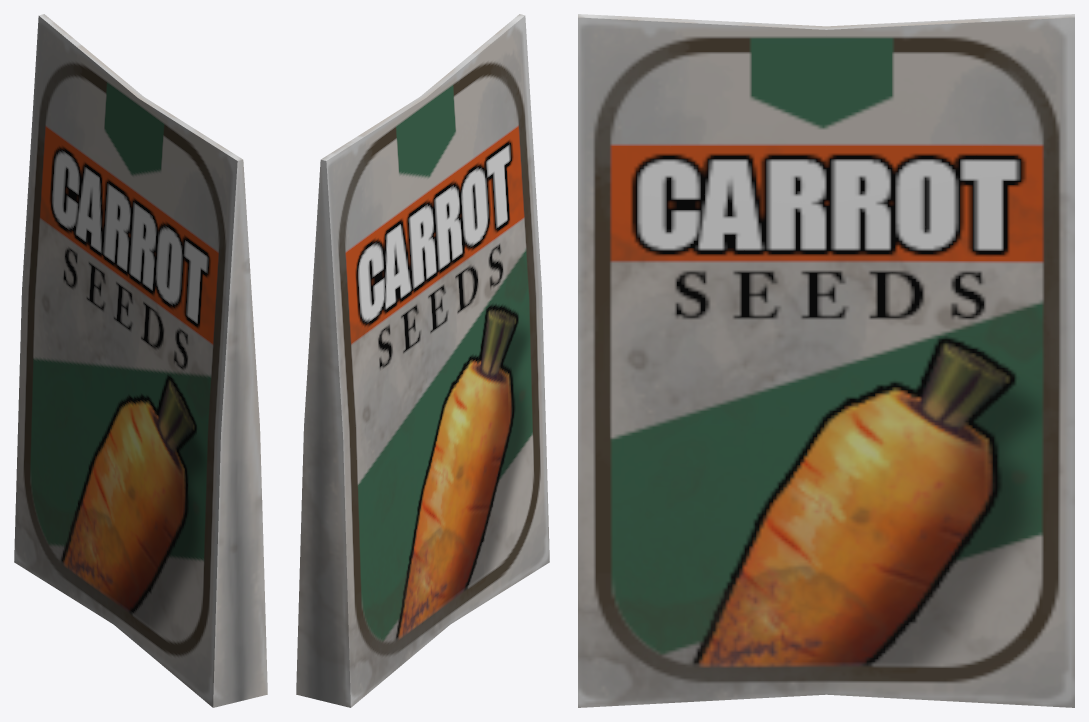
The model's file is seed_carrot.gltf.
3 views of the same model, side by side, from view 1: azimuth 30°, elevation 25°; view 2: azimuth 150°, elevation 25°; view 3: azimuth 270°, elevation 25° (orthographic). The views are drawn at different scales.
Parts seen in each view (by area): view 1: seedBag_carrot; view 2: seedBag_carrot; view 3: seedBag_carrot.
Part boxes in pixels (left/top/right/bottom): seedBag_carrot: left=14, top=14, right=267, bottom=707; seedBag_carrot: left=296, top=14, right=549, bottom=707; seedBag_carrot: left=578, top=14, right=1074, bottom=707.
Bounding box in the file's own units: 0.0159 × 0.15 × 0.1.
1 material, 1 textured.
